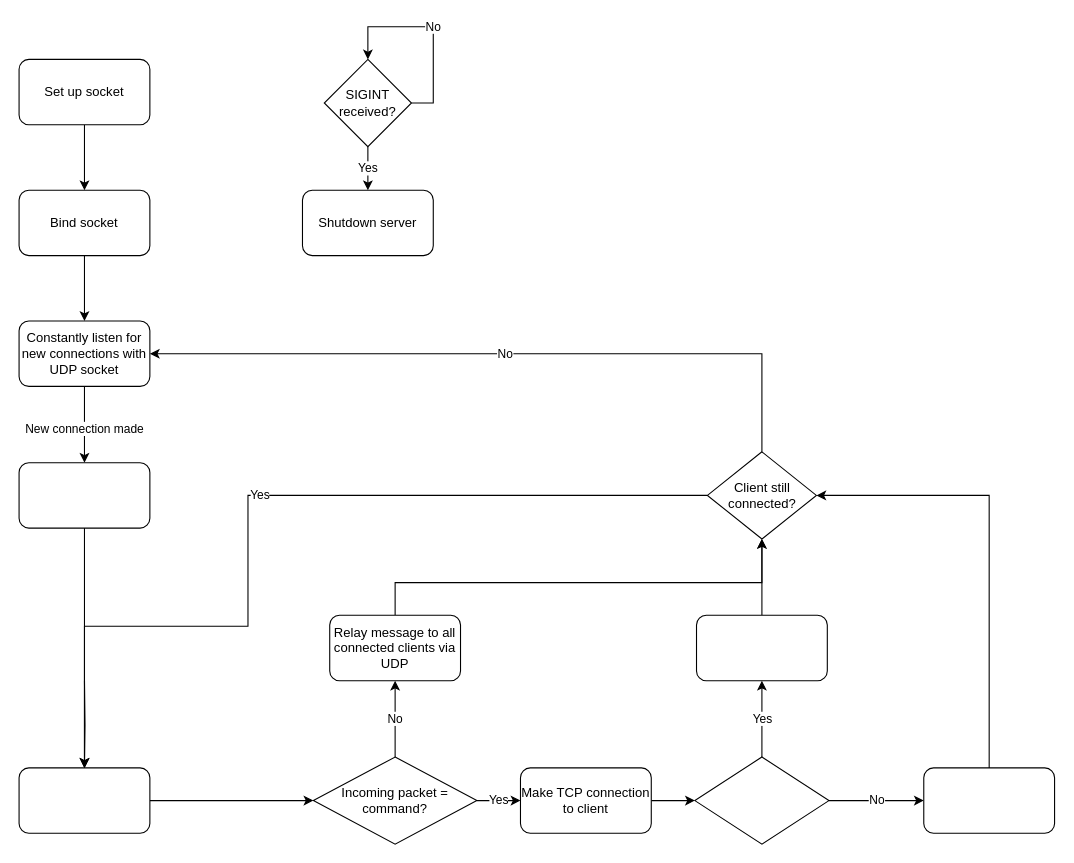
The diagram is 1074 pixels wide and 863 high, and some of its shapes have lost their labels. The box of each missing label's shape, as (x1, y1, x2, y2) in pixels:
Accept incoming UDP connection and fork a new process: (18, 462, 150, 528)
Packet = get command?: (694, 756, 829, 844)
Read in file that was sent via TCP connection: (923, 767, 1055, 833)
Receive incoming packet via UDP: (18, 767, 150, 833)
Send requested file to client via TCP connection: (695, 614, 827, 681)
